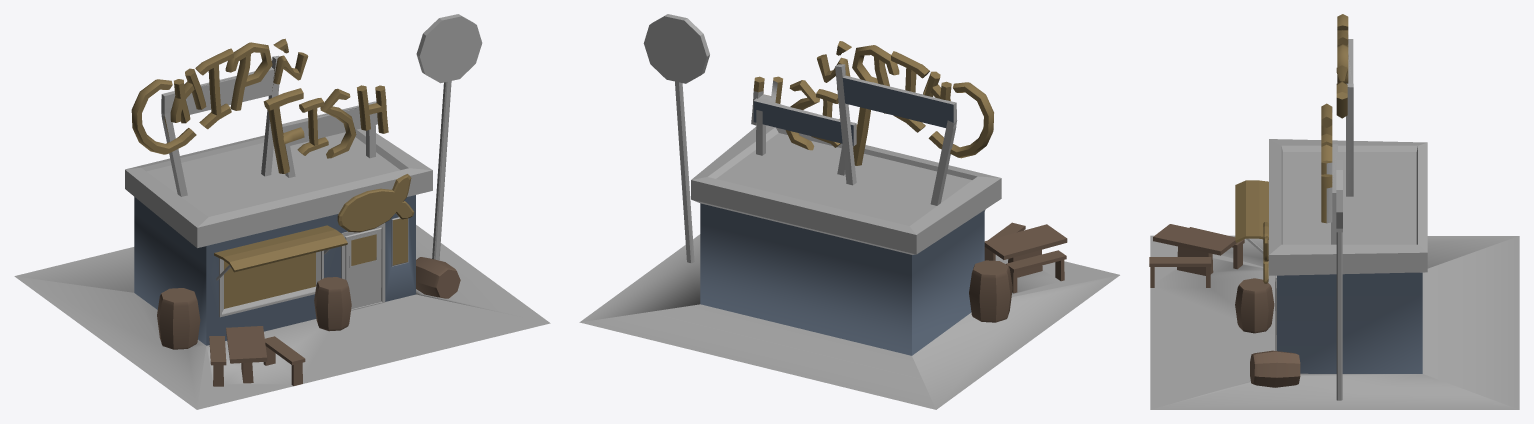
The model's file is chippy.fbx.
The picture shows the model from 3 angles, left to right: view 1: azimuth 30°, elevation 25°; view 2: azimuth 150°, elevation 25°; view 3: azimuth 270°, elevation 25°; orthographic projection.
Parts seen in each view (by area): view 1: chippy; view 2: chippy; view 3: chippy.
Part boxes in pixels (left/top/right/bottom): chippy: left=14, top=14, right=550, bottom=409; chippy: left=579, top=14, right=1119, bottom=409; chippy: left=1149, top=14, right=1519, bottom=409.
Size of the model in its own units: 11.54 by 7.64 by 9.7.
